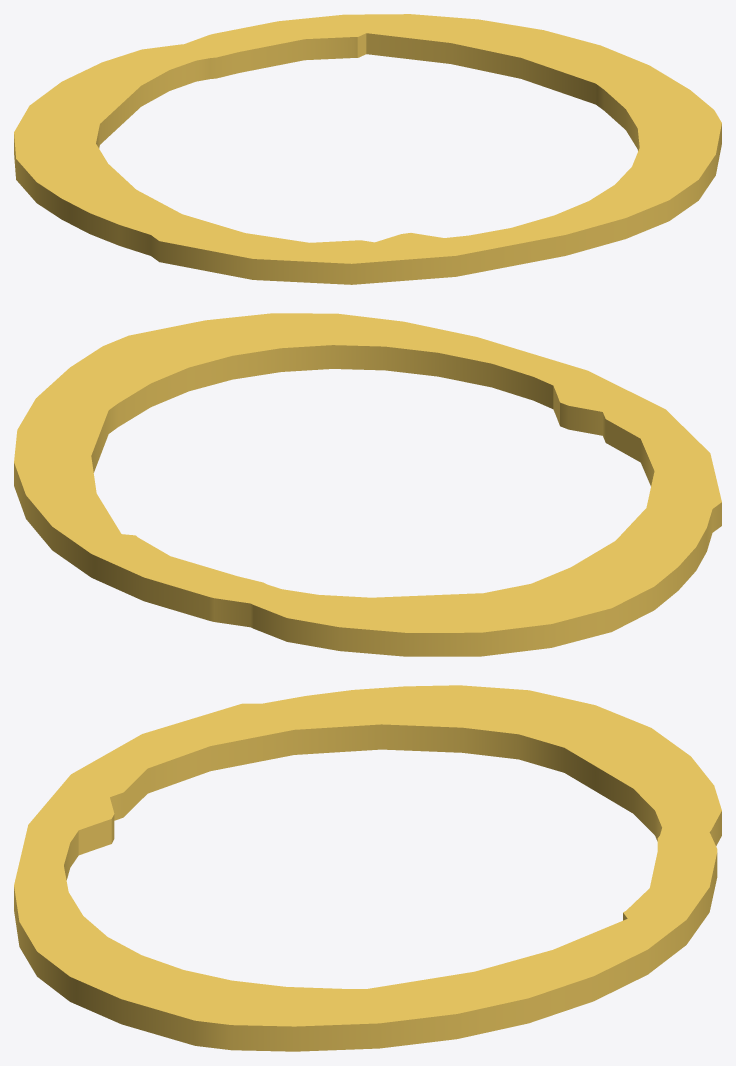
The model's file is original-21.obj.
The picture shows the model from 3 angles, top to bottom: view 1: azimuth 30°, elevation 25°; view 2: azimuth 150°, elevation 25°; view 3: azimuth 270°, elevation 25°; orthographic projection. The views are drawn at different scales.
Parts seen in each view (by area): view 1: mesh2/mesh2-geometry#mesh2-geometry; view 2: mesh2/mesh2-geometry#mesh2-geometry; view 3: mesh2/mesh2-geometry#mesh2-geometry.
Part boxes in pixels (left/top/right/bottom): mesh2/mesh2-geometry#mesh2-geometry: left=14, top=14, right=721, bottom=284; mesh2/mesh2-geometry#mesh2-geometry: left=14, top=313, right=721, bottom=656; mesh2/mesh2-geometry#mesh2-geometry: left=14, top=685, right=721, bottom=1051.
Bounding box in the file's own units: 0.0132 × 0.000452 × 0.0115.
